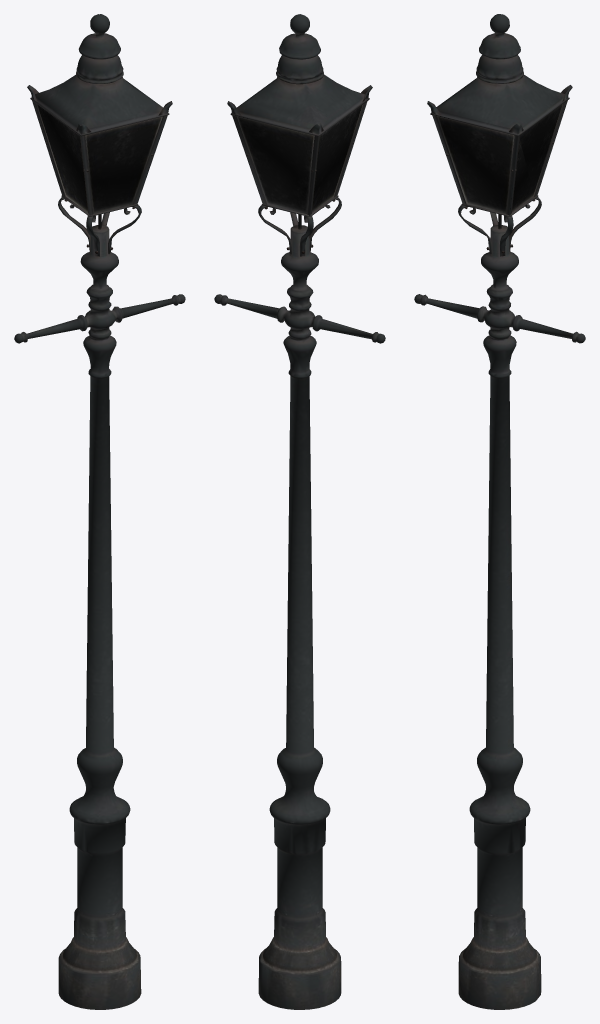
File: street_lamp_01.glb
3 views of the same model, side by side, from view 1: azimuth 30°, elevation 25°; view 2: azimuth 150°, elevation 25°; view 3: azimuth 330°, elevation 25° (orthographic).
Visible parts, largest first — view 1: street_lamp_01; view 2: street_lamp_01; view 3: street_lamp_01.
Part boxes in pixels (left/top/right/bottom): street_lamp_01: left=14, top=14, right=185, bottom=1009; street_lamp_01: left=214, top=14, right=385, bottom=1009; street_lamp_01: left=414, top=14, right=585, bottom=1009.
Bounding box in the file's own units: 0.7031 × 3.87 × 0.3862.
3 materials, 3 textured.
